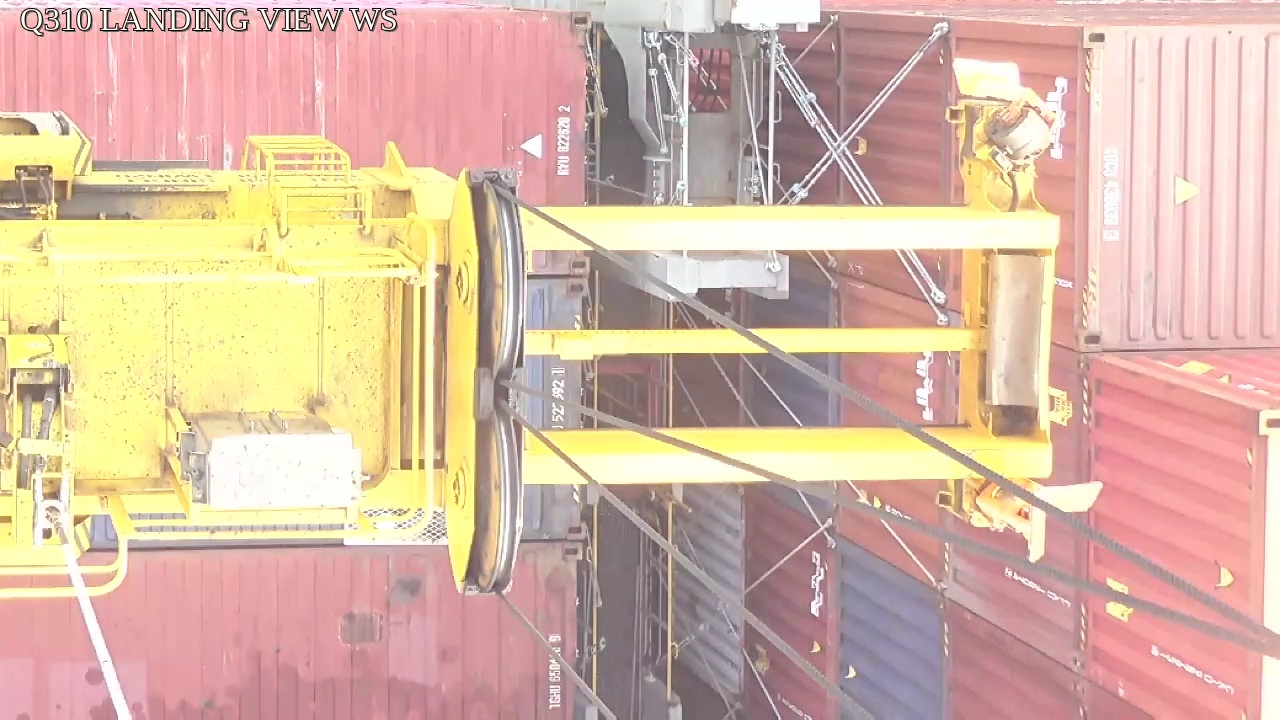right: (442, 167, 528, 600)
